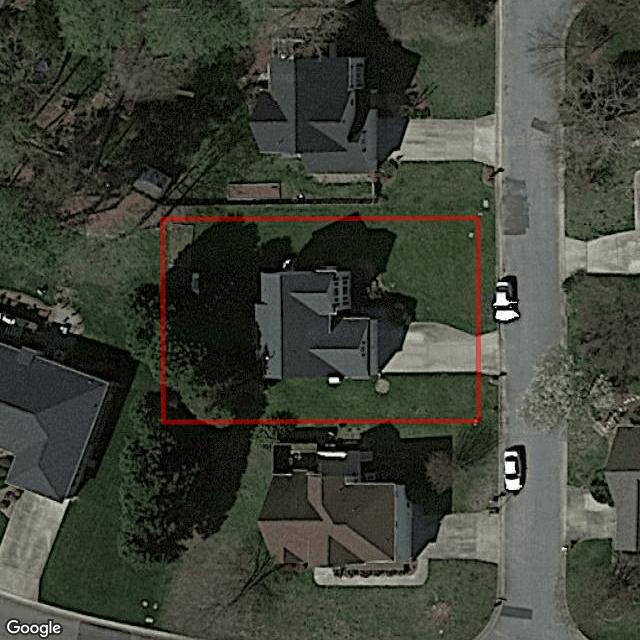Driveway: (382, 322, 475, 374)
Extra Driveway: (481, 331, 501, 376)
Extra Lawn: (481, 217, 497, 335), (482, 374, 498, 422)
House: (255, 268, 380, 381)
